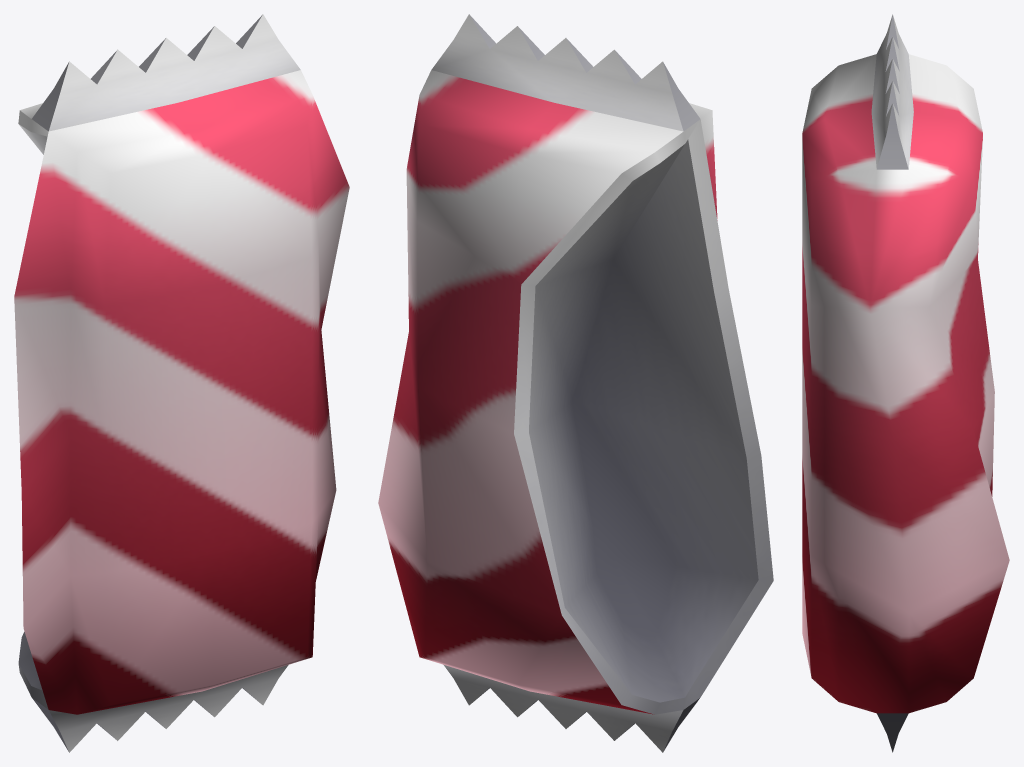
Rendered from m_IceCreamWrapper03.fbx.
The picture shows the model from 3 angles, left to right: view 1: azimuth 30°, elevation 25°; view 2: azimuth 150°, elevation 25°; view 3: azimuth 270°, elevation 25°; orthographic projection. The views are drawn at different scales.
Visible parts, largest first — view 1: m_IceCreamWrapper03; view 2: m_IceCreamWrapper03; view 3: m_IceCreamWrapper03.
Part boxes in pixels (bbox=[...]): m_IceCreamWrapper03: bbox=[14, 14, 349, 752]; m_IceCreamWrapper03: bbox=[378, 14, 773, 752]; m_IceCreamWrapper03: bbox=[802, 14, 1009, 752].
Bounding box in the file's own units: 12.85 × 23.98 × 6.94.
